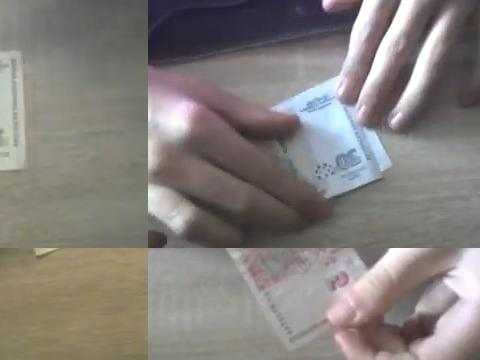20leva: (270, 79, 393, 199)
5leva: (223, 248, 369, 351)
